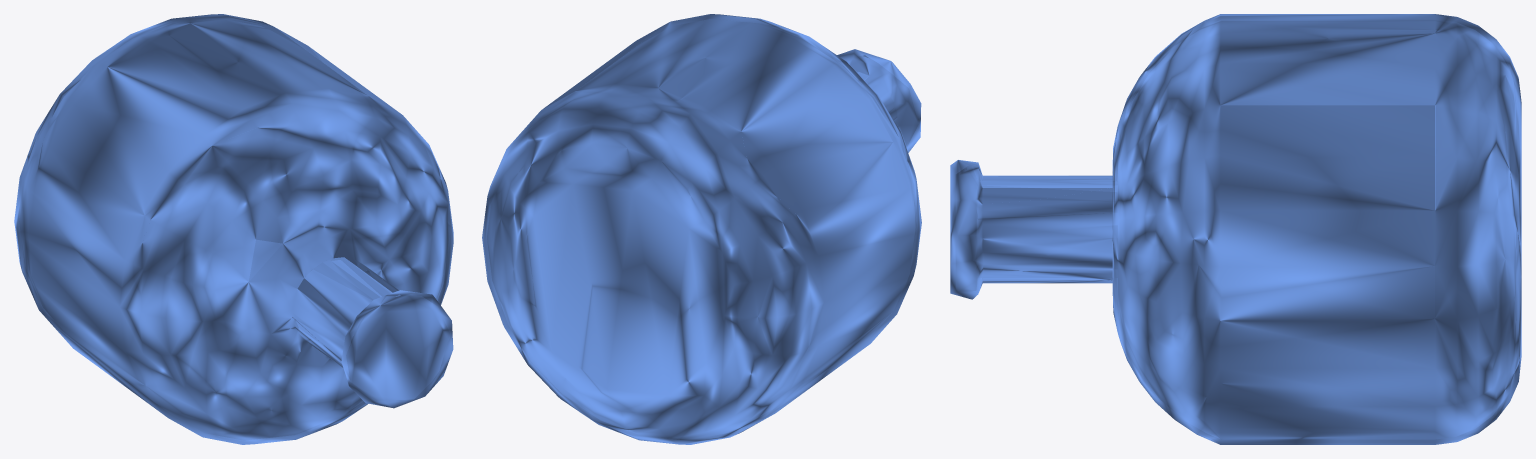
File: model_align.obj
3 renders of one model, left to right at view 1: azimuth 30°, elevation 25°; view 2: azimuth 150°, elevation 25°; view 3: azimuth 270°, elevation 25°, orthographic. The views are drawn at different scales.
Bounding box in the file's own units: 0.1468 × 0.1468 × 0.1939.
